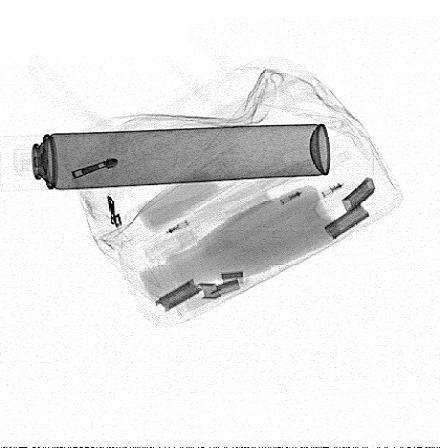Sprayer: (0, 124, 331, 190)
